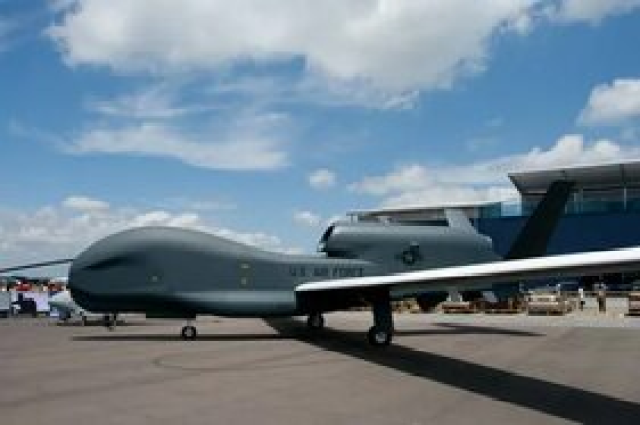military drone: (69, 179, 640, 347)
